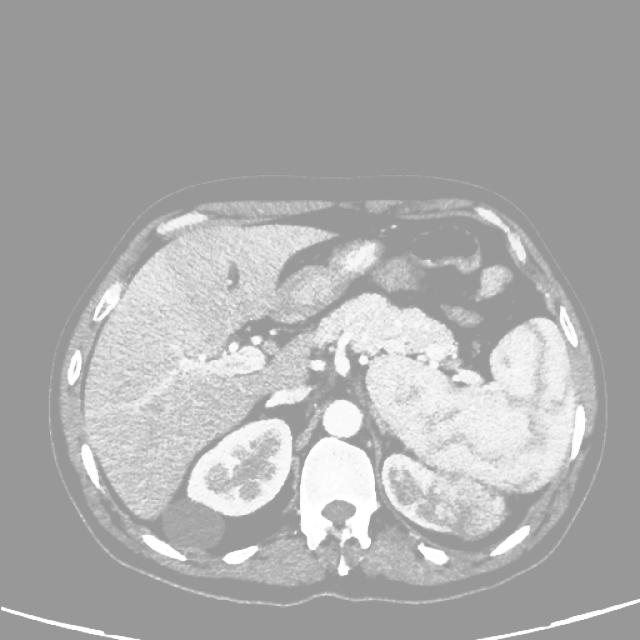TUMOR: (124, 195, 615, 564)
